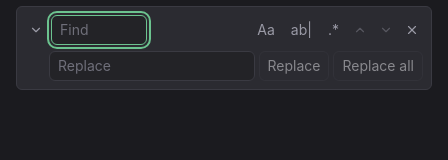
Scenario: FindBar (F-3.10) › replaces one, then all in one undo step, and says how many
The width and height of the screenshot is (448, 160).
Type "cat" into the field labelled "Find" at x=99, y=30, box [51,15,147,45]
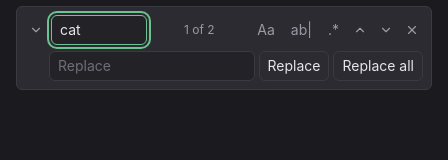
Type "dog" into the field named "Replace with" at x=152, y=66, box [49,51,254,81]
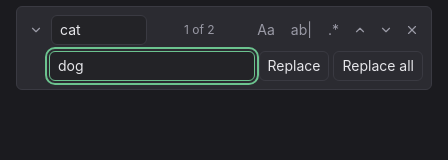
Click the button "Replace" at x=294, y=66, box [258,51,330,81]
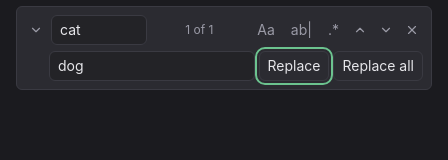
Now the message with test id "find-status" reads "1 of 1", box [185,22,214,37]
Replace the text in the field named "Find" with "The" at x=99, y=30, box [51,15,147,45]
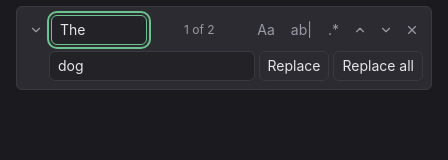
Click the button "Replace all" at x=378, y=66, box [334,51,423,81]
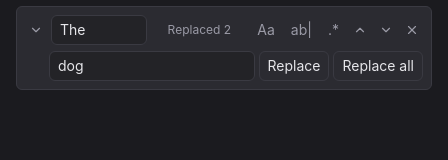
Now the message with test id "find-status" reads "Replaced 2", box [168,22,231,37]
